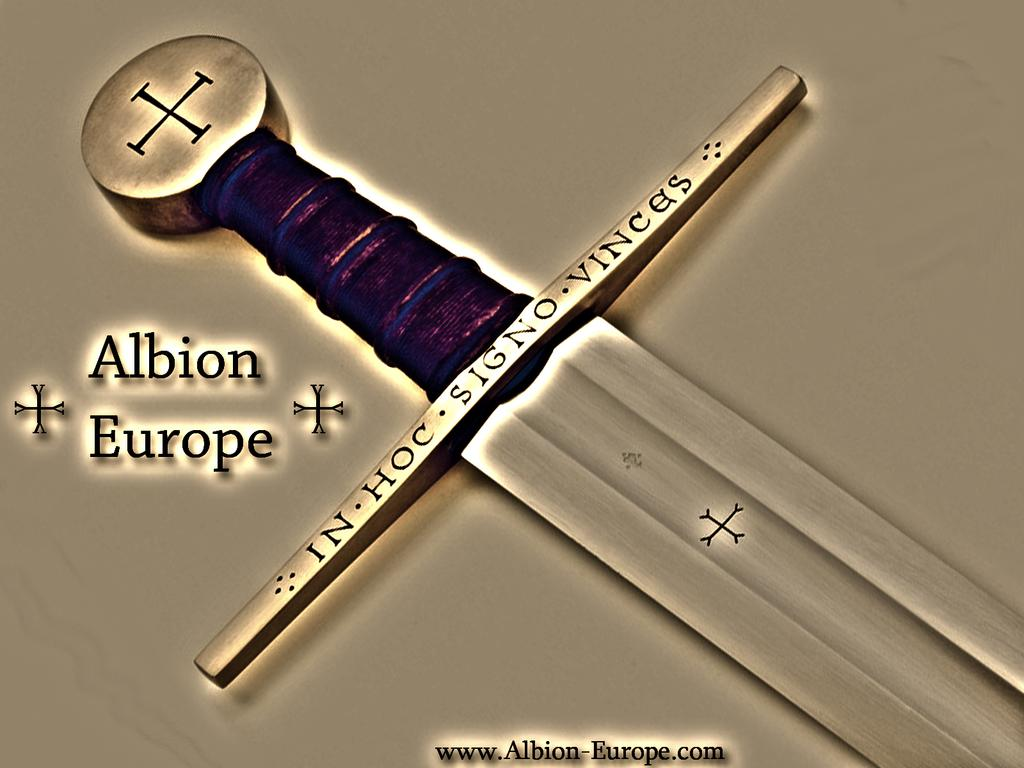Sword: (80, 38, 1023, 767)
